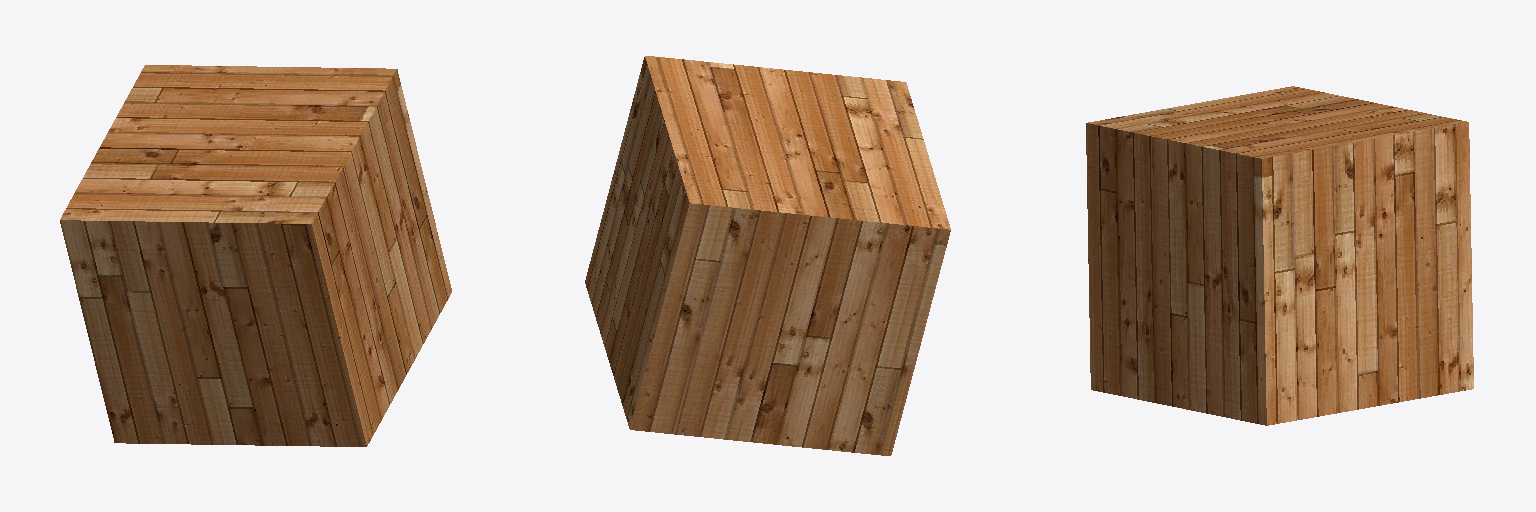
3 renders of one model, left to right at view 1: azimuth 30°, elevation 25°; view 2: azimuth 150°, elevation 25°; view 3: azimuth 270°, elevation 25°, orthographic.
Parts seen in each view (by area): view 1: Cube Mesh Mesh; view 2: Cube Mesh Mesh; view 3: Cube Mesh Mesh.
Boxes of the visible parts, <box> form: Cube Mesh Mesh: <box>60,65,451,446</box>; Cube Mesh Mesh: <box>585,56,950,455</box>; Cube Mesh Mesh: <box>1086,86,1473,425</box>.
Bounding box in the file's own units: 3.22 × 2.62 × 2.85.
1 materials, 1 textured.